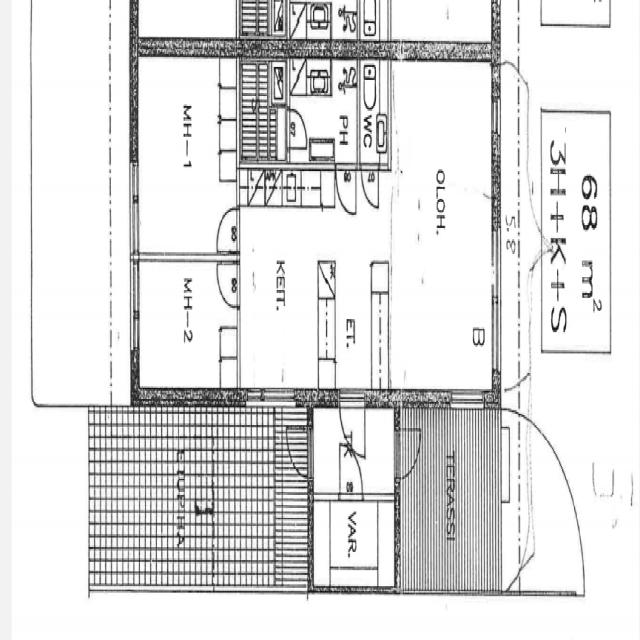door: (540, 84, 612, 358), (334, 397, 375, 507), (335, 388, 368, 456), (394, 420, 422, 480), (334, 160, 358, 220), (285, 100, 311, 155), (215, 256, 241, 311), (215, 204, 240, 252), (360, 160, 380, 212)
window: (125, 180, 145, 359), (125, 140, 144, 260), (488, 211, 504, 317)
zone: (383, 53, 496, 393), (238, 170, 384, 394), (133, 50, 238, 262), (134, 257, 241, 392), (312, 492, 398, 592), (288, 52, 361, 169), (237, 45, 286, 166), (359, 49, 390, 164)
